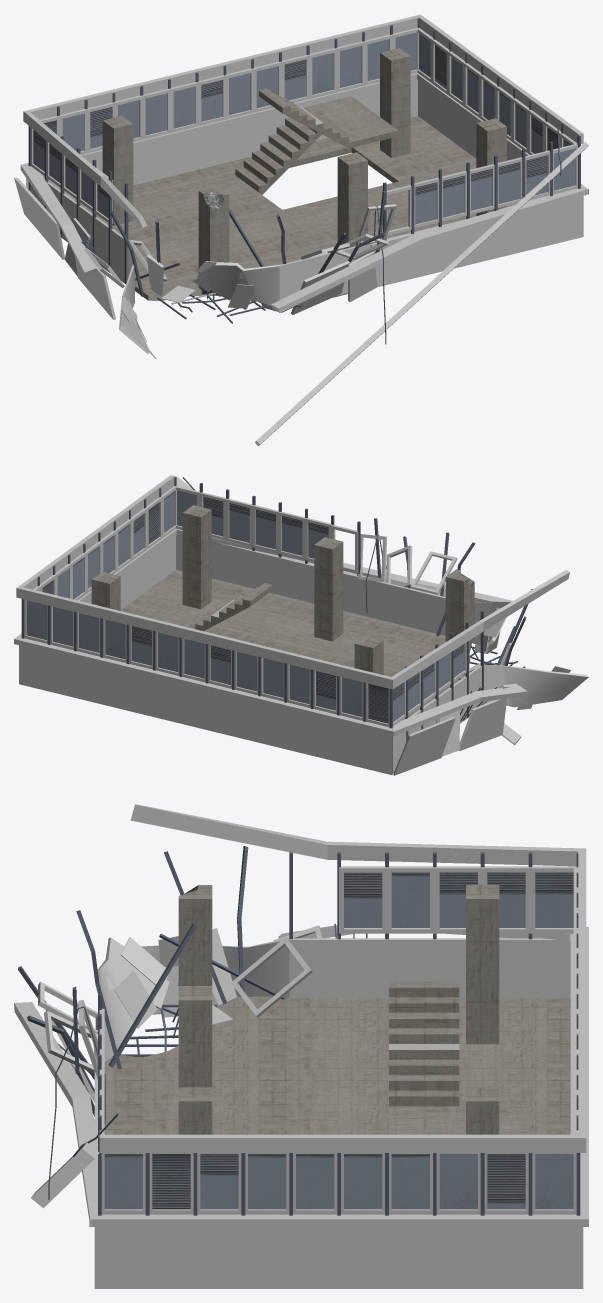
The model's file is Ruin2D_LOD0.fbx.
The picture shows the model from 3 angles, top to bottom: view 1: azimuth 30°, elevation 25°; view 2: azimuth 150°, elevation 25°; view 3: azimuth 270°, elevation 25°; orthographic projection. The views are drawn at different scales.
Parts seen in each view (by area): view 1: polySurface458; view 2: polySurface458; view 3: polySurface458.
Boxes of the visible parts, <box> form: polySurface458: <box>14,14,588,446</box>; polySurface458: <box>14,475,588,775</box>; polySurface458: <box>14,804,588,1288</box>.
Size of the model in its own units: 16.41 by 7.88 by 12.01.
